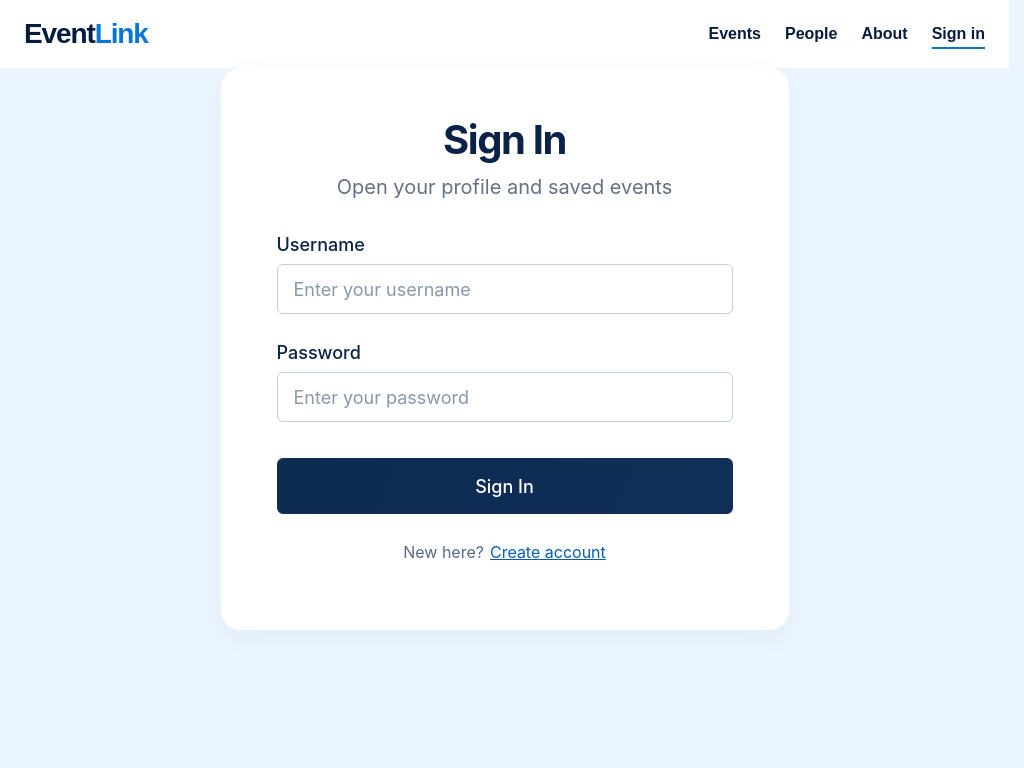
Scenario: a sign-in failure (null) explains its cause and keeps the form usable
Check: the button "Sign In" is enabled, box [276,458,732,514]
Type "account-owner" into the field labelled "Username" at (504, 289), box [276,264,732,314]
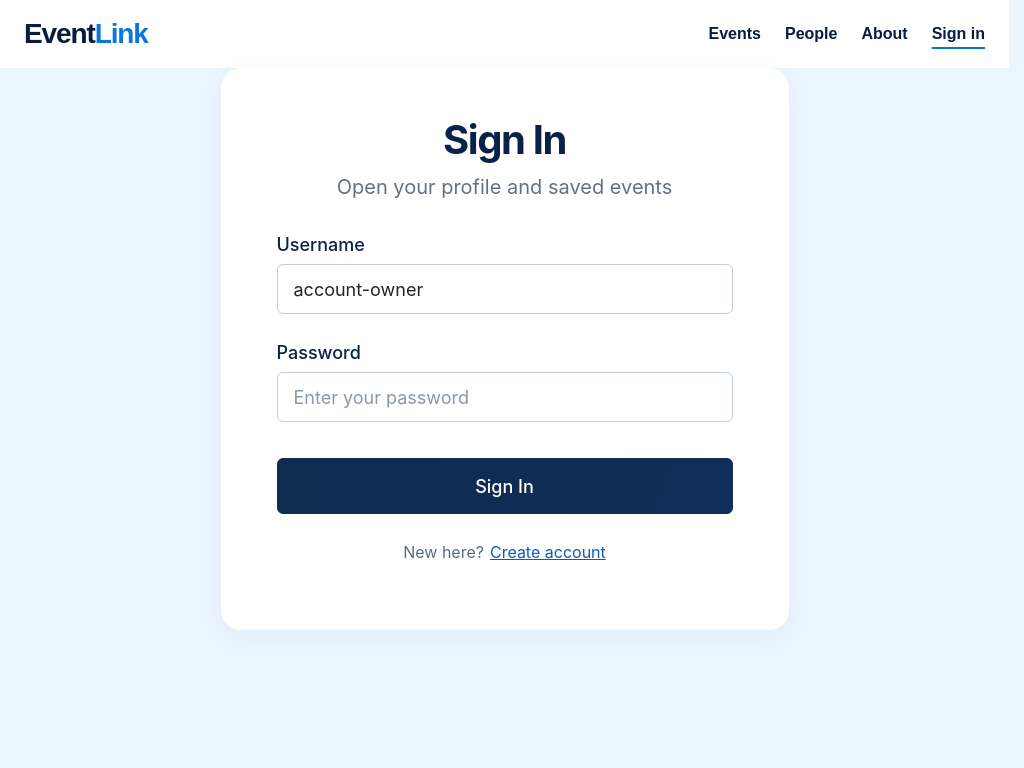
Type "test-password-123" into the password field labelled "Password" at (504, 397), box [276,372,732,422]
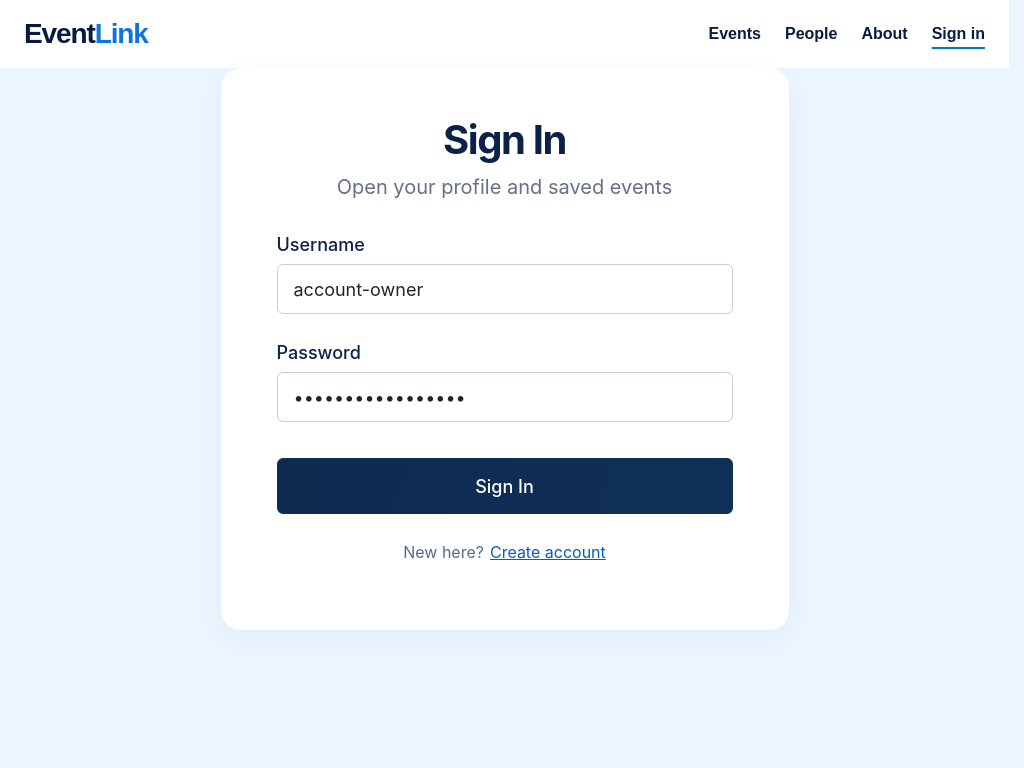
Click the button "Sign In" at (504, 486), box [276,458,732,514]
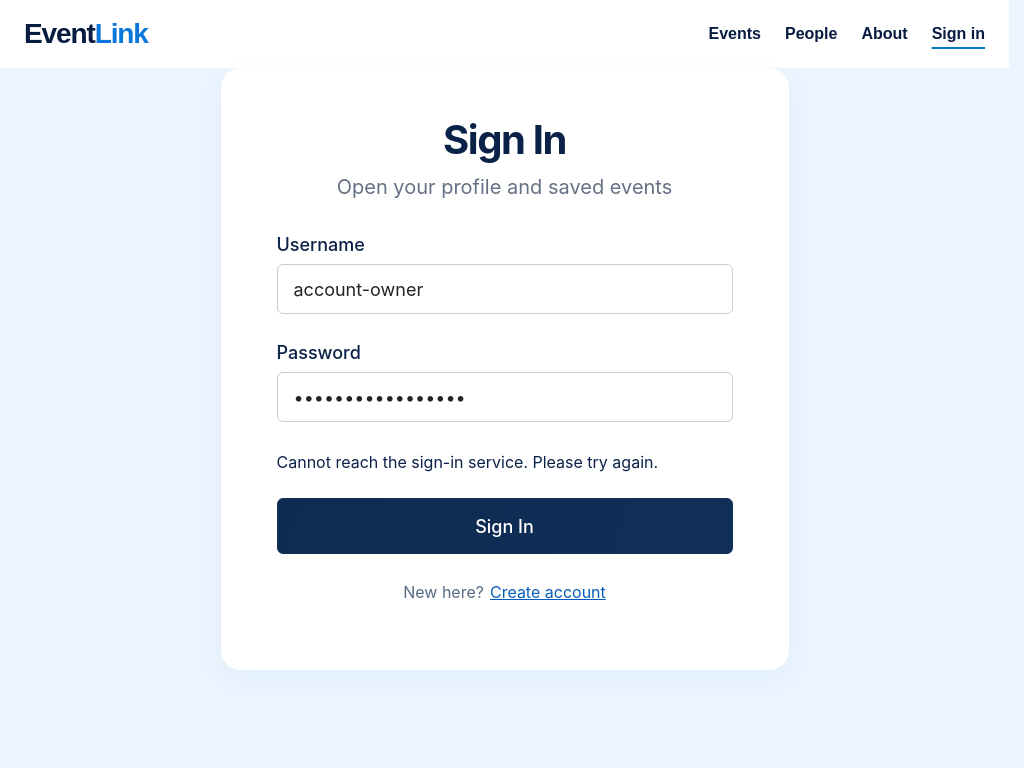
Check: the button "Sign In" is enabled, box [276,498,732,554]
Check: the message shows "Cannot reach the sign-in service.", box [276,452,658,472]
